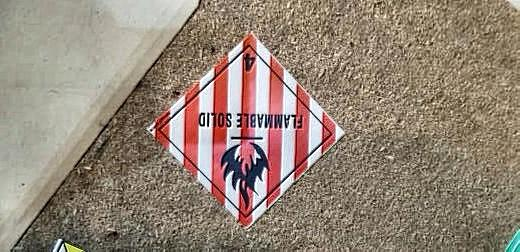flammable-solid: (146, 31, 347, 231)
